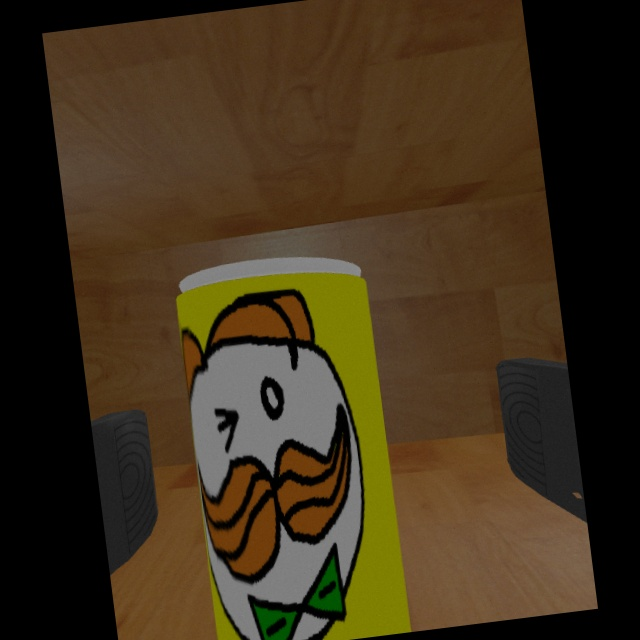chipsdose_gelb: (176, 257, 412, 640)
